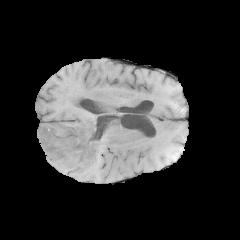glioma: (37, 119, 102, 170)
